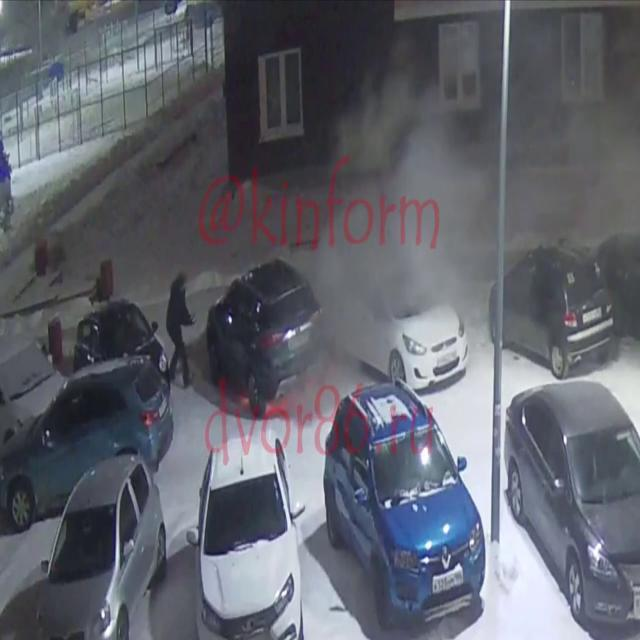Smoke: (297, 4, 640, 359)
